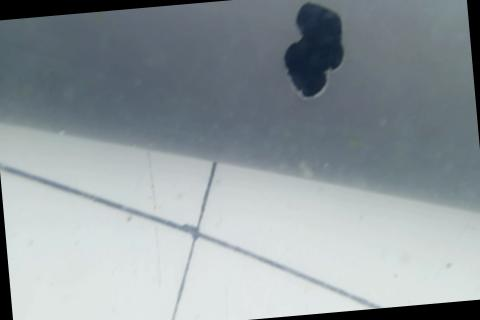kebocoran: (277, 0, 349, 99)
